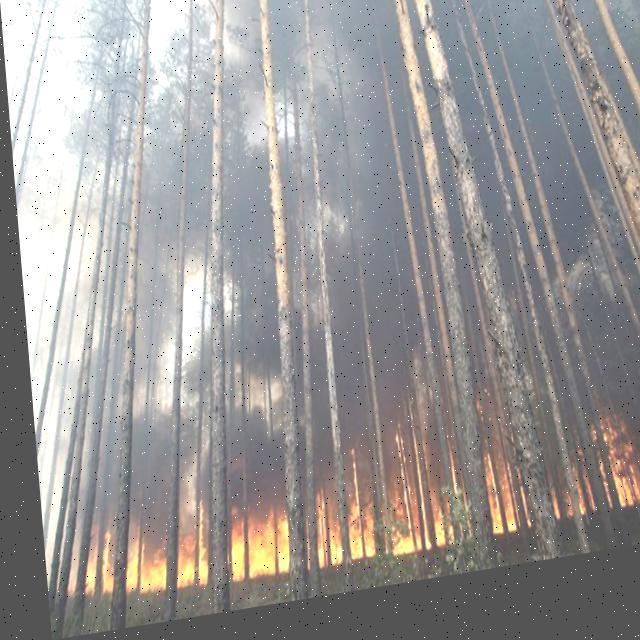Fire: (62, 454, 639, 600)
